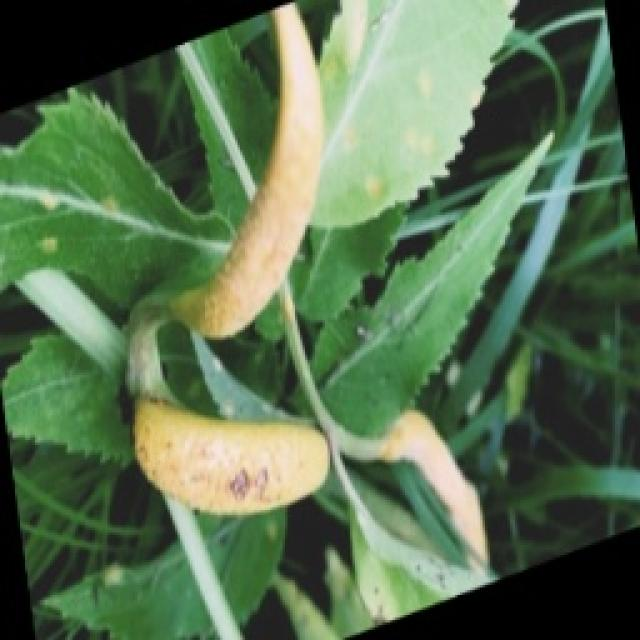Elderberry_rust: (202, 23, 342, 342), (130, 392, 330, 518)
